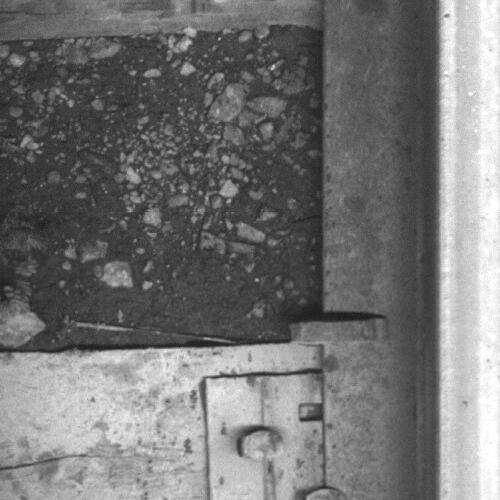crutch: (289, 317, 392, 346)
hole_do: (290, 392, 333, 429)
rail: (436, 1, 500, 500)
tie_wood: (1, 346, 323, 500)
wood_crack: (1, 447, 101, 479)
